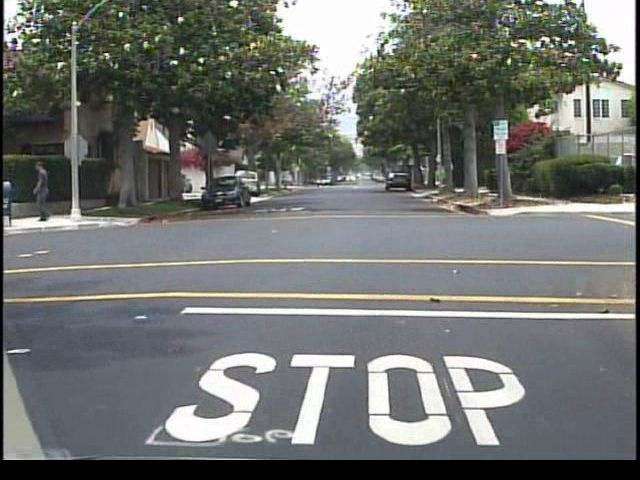person: (27, 157, 60, 227)
